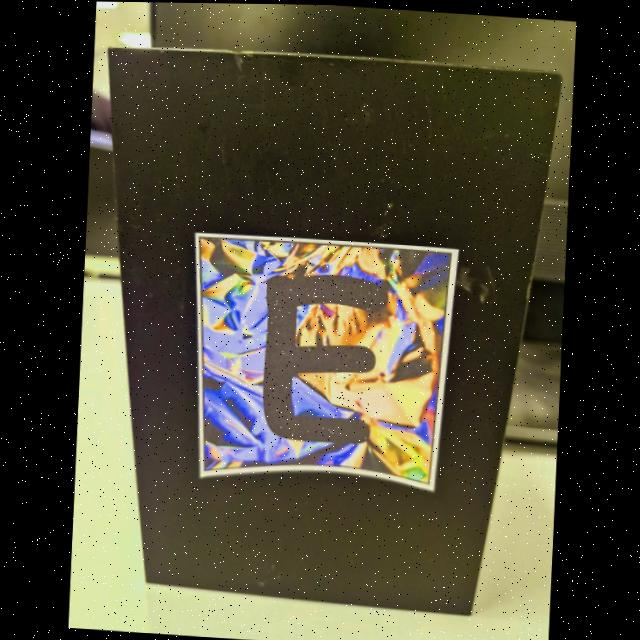E: (263, 275, 385, 442)
